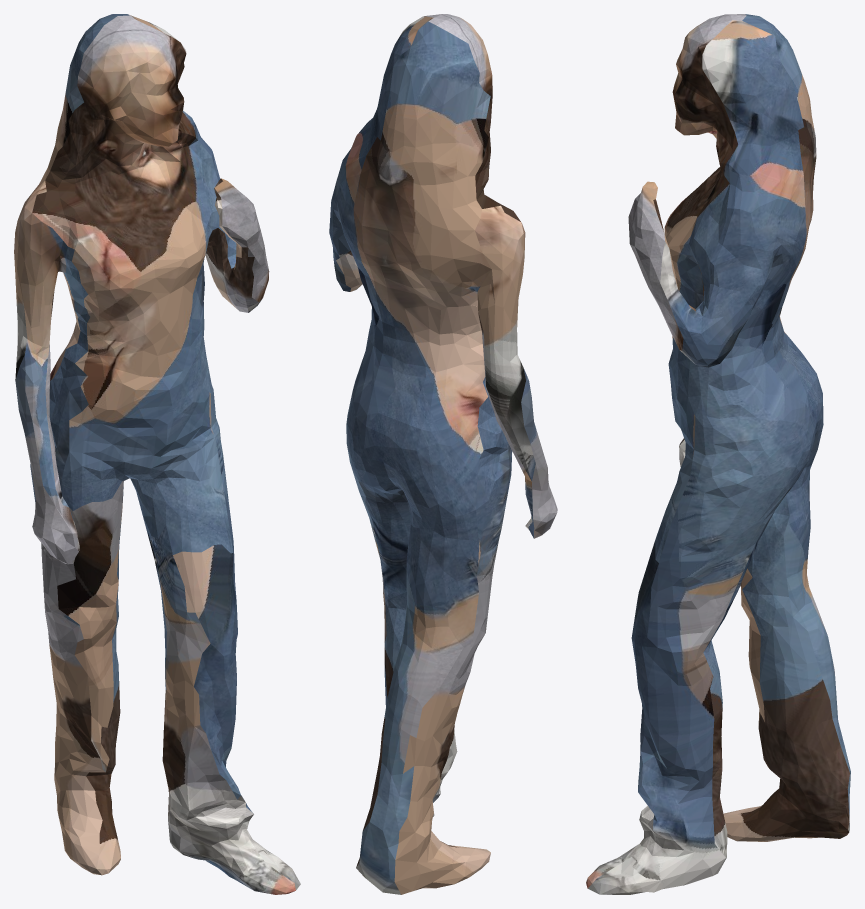
The model's file is girl_2.glb.
The picture shows the model from 3 angles, left to right: view 1: azimuth 30°, elevation 25°; view 2: azimuth 150°, elevation 25°; view 3: azimuth 270°, elevation 25°; orthographic projection.
Visible parts, largest first — view 1: girl_2; view 2: girl_2; view 3: girl_2.
Part boxes in pixels (x1,y1,x2,y2): girl_2: [14, 14, 300, 894]; girl_2: [329, 14, 557, 894]; girl_2: [586, 14, 850, 894].
Bounding box in the file's own units: 0.4229 × 1.56 × 0.4513.
Materials: 1 (1 with a texture image).
